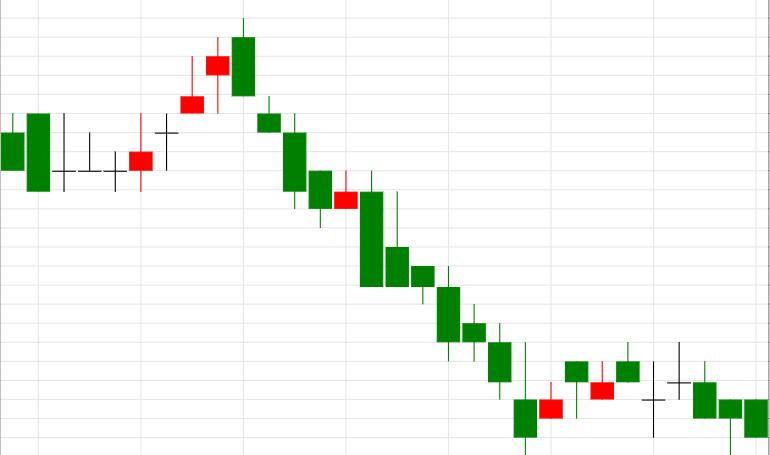inverse_hammer_rise: (232, 19, 536, 455)
